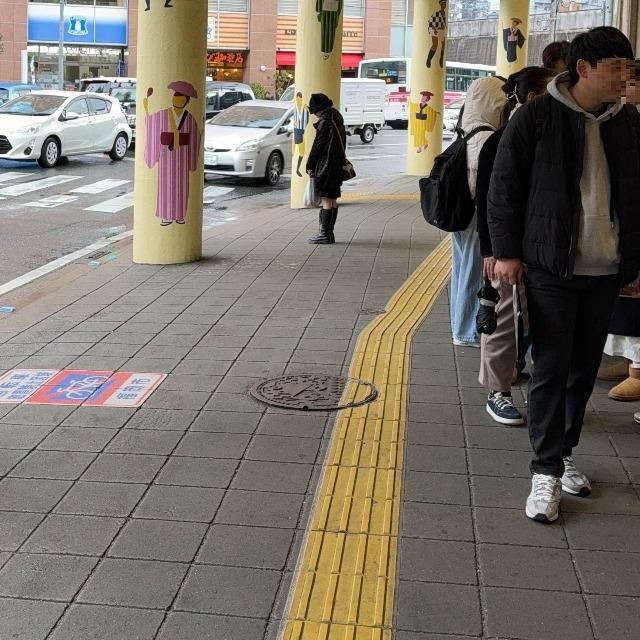NoHelmet: (570, 26, 635, 100)
NoVest: (505, 99, 640, 274)
